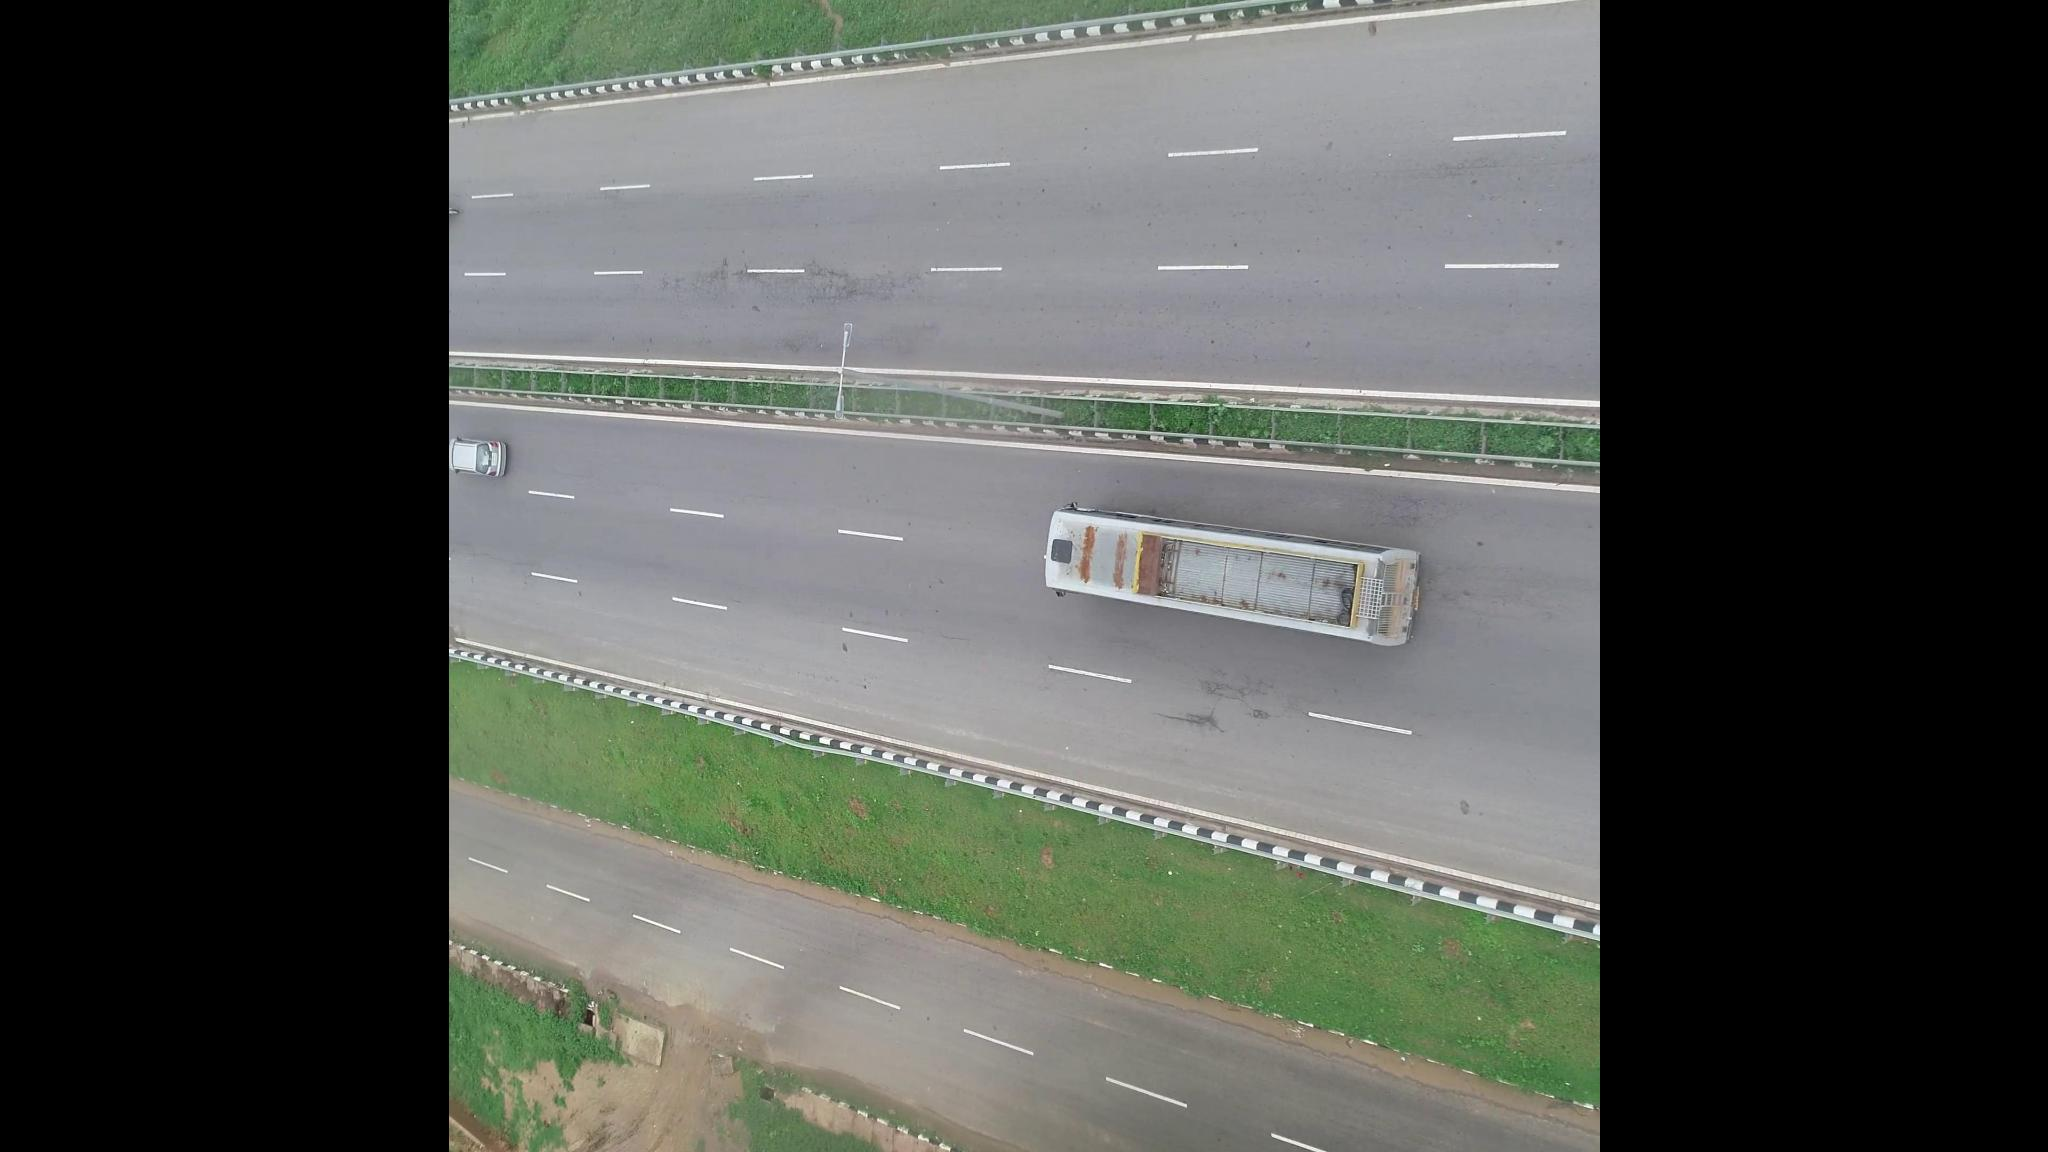Cracks: (753, 264, 926, 311)
